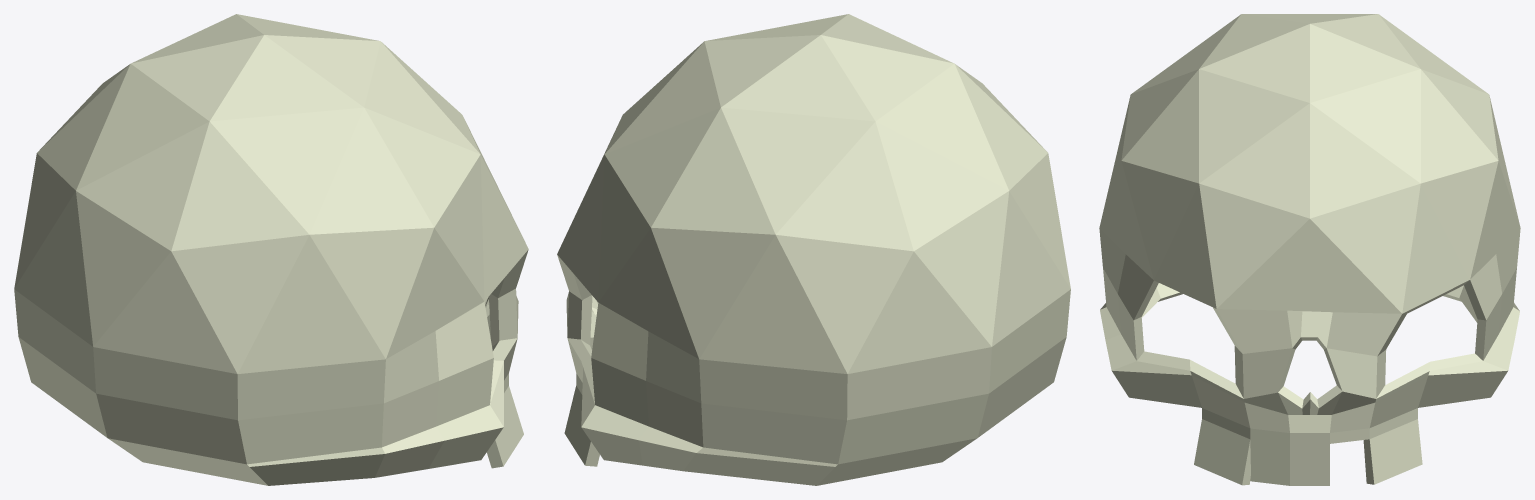
Rendered from Skull.fbx.
The picture shows the model from 3 angles, left to right: view 1: azimuth 30°, elevation 25°; view 2: azimuth 150°, elevation 25°; view 3: azimuth 270°, elevation 25°; orthographic projection. The views are drawn at different scales.
Parts seen in each view (by area): view 1: Icosphere.003; view 2: Icosphere.003; view 3: Icosphere.003.
Part boxes in pixels (x1,y1,x2,y2): Icosphere.003: [14, 14, 528, 485]; Icosphere.003: [557, 14, 1070, 485]; Icosphere.003: [1099, 14, 1520, 485].
Bounding box in the file's own units: 175 × 160 × 165.
